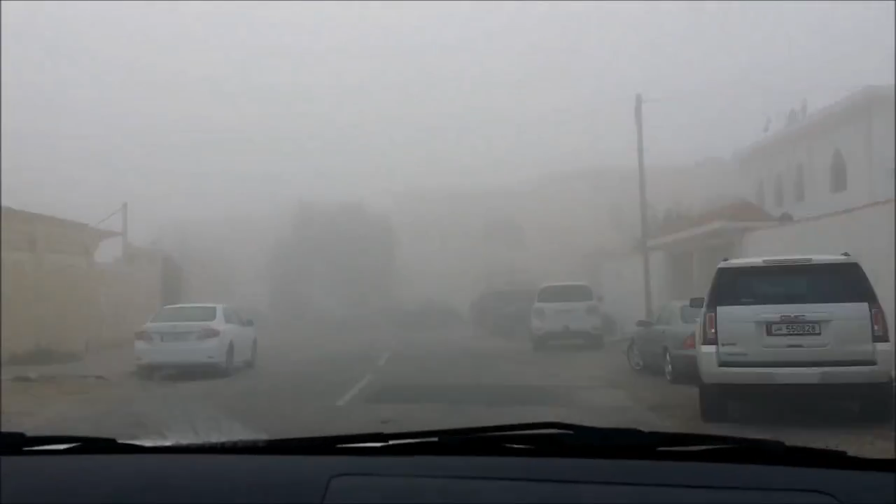car: (689, 248, 896, 425), (130, 301, 262, 381), (624, 298, 745, 384), (529, 280, 606, 353)
